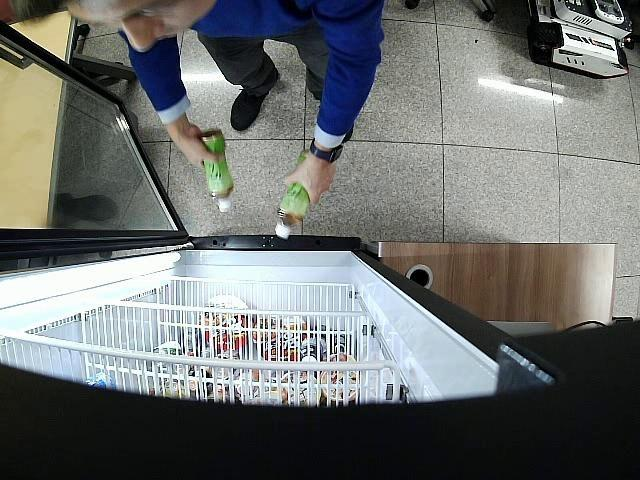19_17cha: (275, 149, 313, 238), (200, 128, 233, 212)
